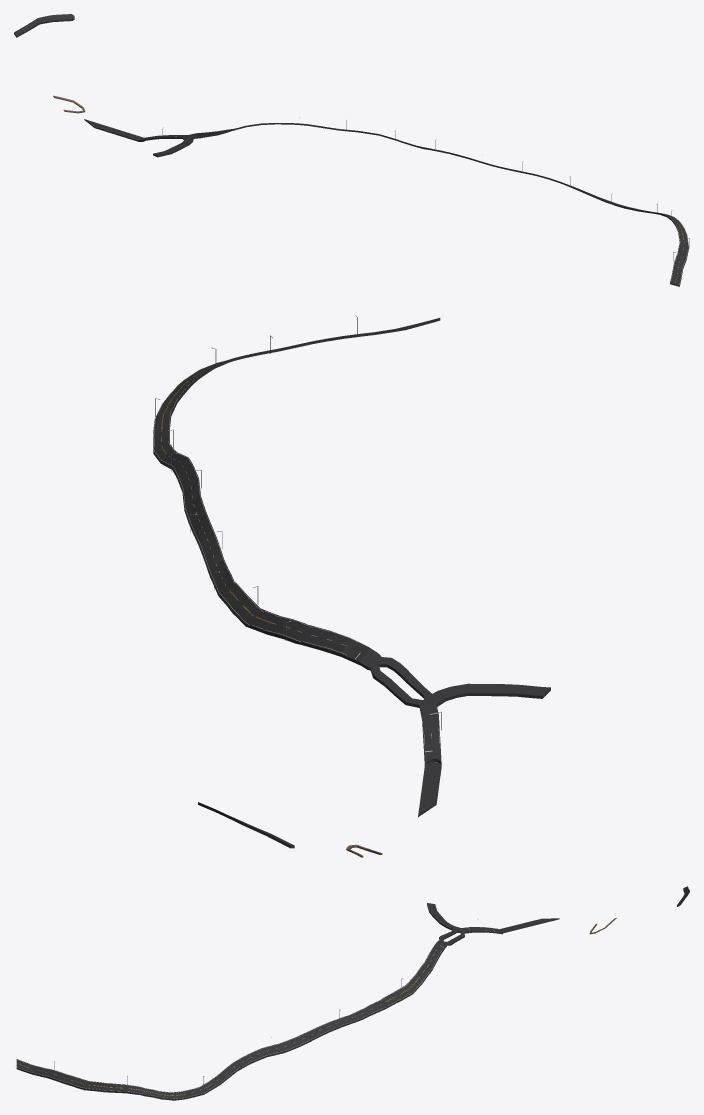
3 views of the same model, one above another, from view 1: azimuth 30°, elevation 25°; view 2: azimuth 150°, elevation 25°; view 3: azimuth 270°, elevation 25° (orthographic). The views are drawn at different scales.
Size of the model in its own units: 281 by 53.05 by 501.
